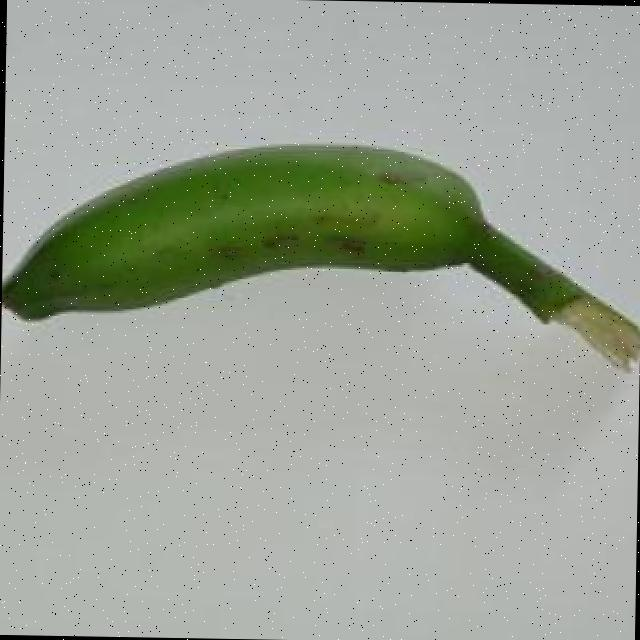Unripe: (0, 134, 640, 371)
